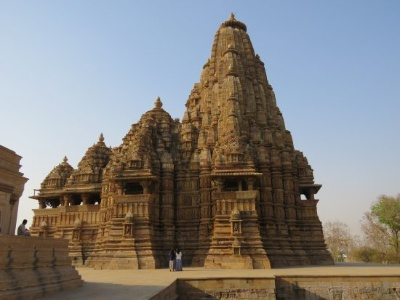amalaka: (214, 16, 252, 33)
gopuram: (192, 29, 300, 170)
mandapa: (30, 184, 102, 213), (108, 168, 159, 202), (295, 181, 336, 208)
